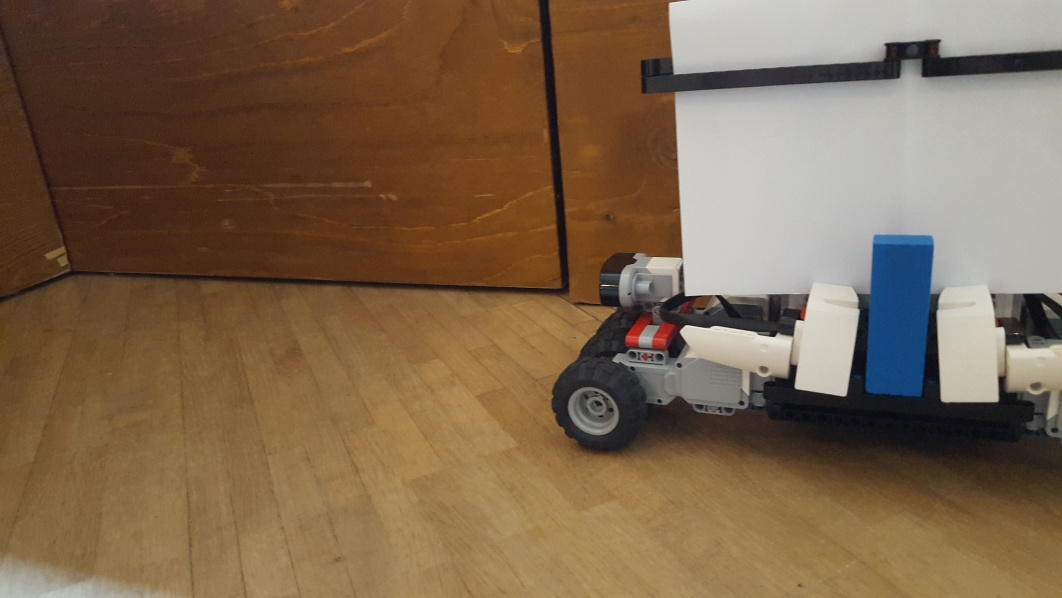beam: (863, 229, 933, 399)
